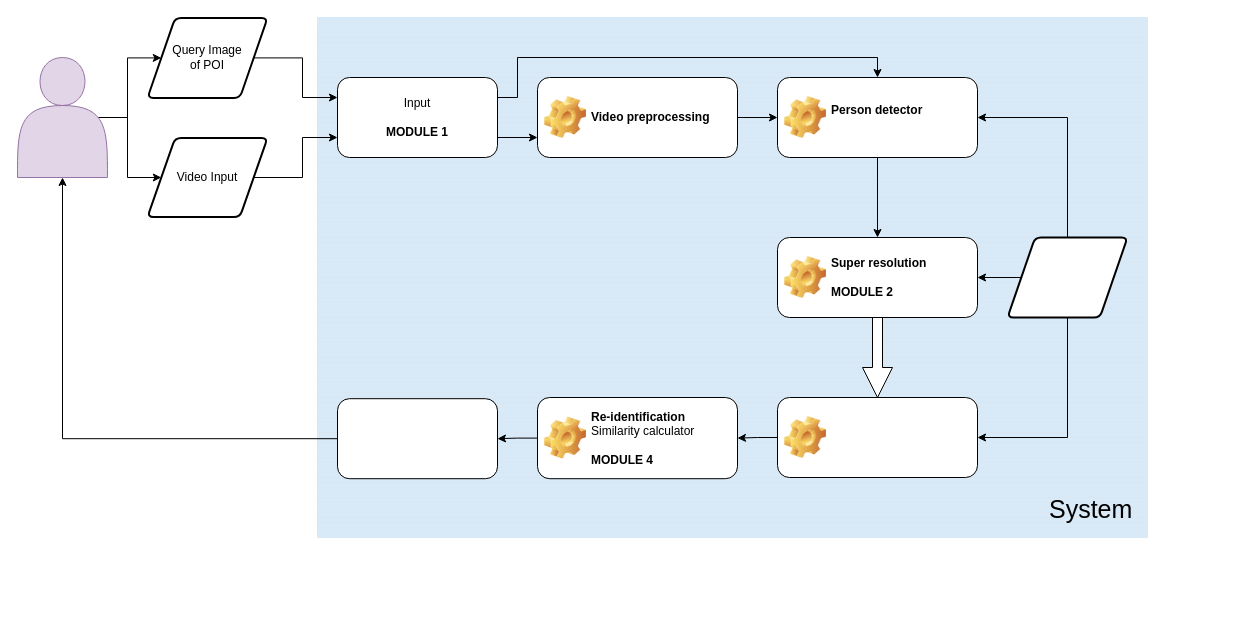
The diagram is 1245 pixels wide and 628 high, and some of its shapes have lost their labels. Each missing label, with the box of its shape:
Output MODULE 5: (336, 398, 498, 479)
Re-identification Feature extractor MODULE 3: (776, 396, 978, 478)
Training data: (1006, 236, 1128, 318)
User: (16, 56, 108, 178)
